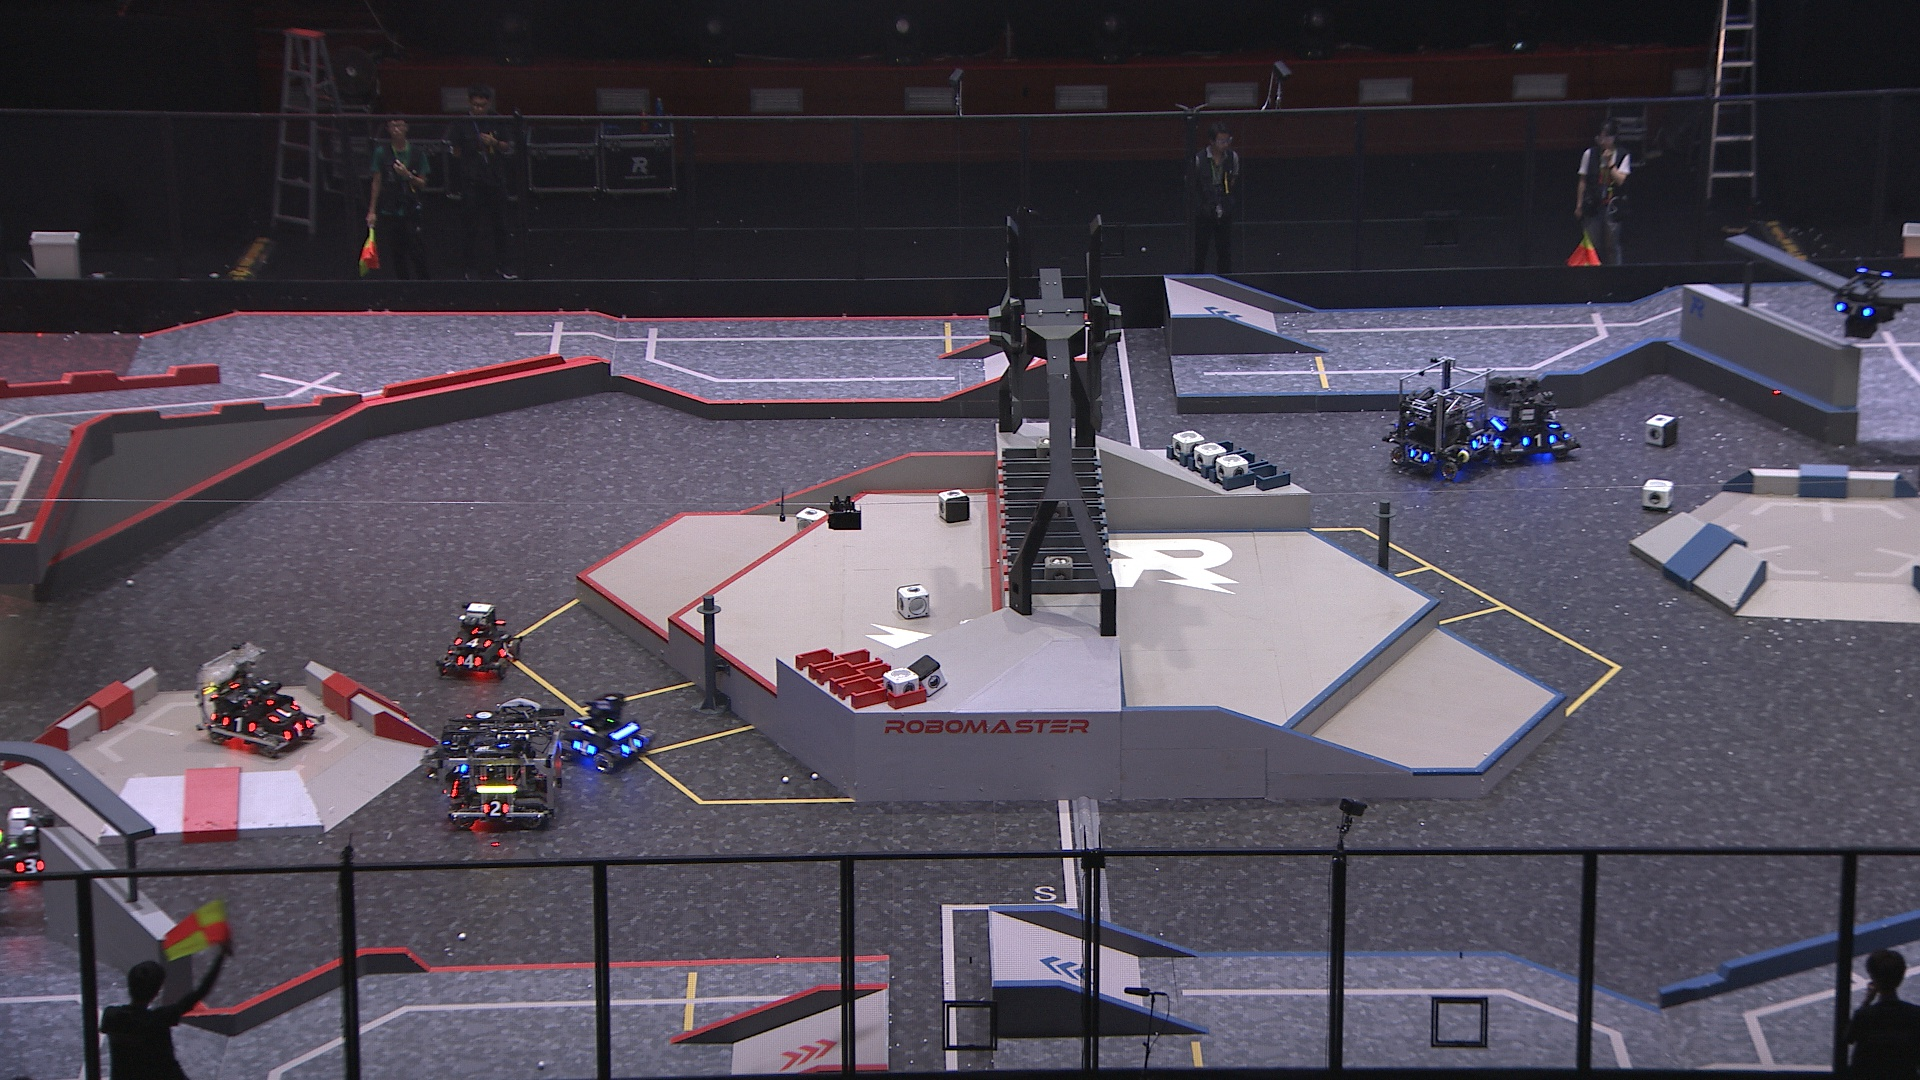armor: (216, 713, 257, 735), (1830, 301, 1876, 319), (12, 856, 47, 878), (281, 721, 316, 740), (480, 799, 510, 820), (268, 704, 297, 723), (1520, 433, 1556, 447), (452, 636, 491, 647), (455, 654, 485, 669), (621, 737, 645, 756), (572, 738, 597, 756), (1466, 434, 1489, 452), (1406, 447, 1429, 463), (1542, 418, 1563, 433), (496, 641, 512, 659)
car: (433, 705, 567, 829), (196, 642, 327, 760), (1382, 353, 1491, 480), (1480, 371, 1580, 463), (553, 692, 654, 773), (436, 600, 526, 683)
watcher: (1830, 264, 1904, 338)
